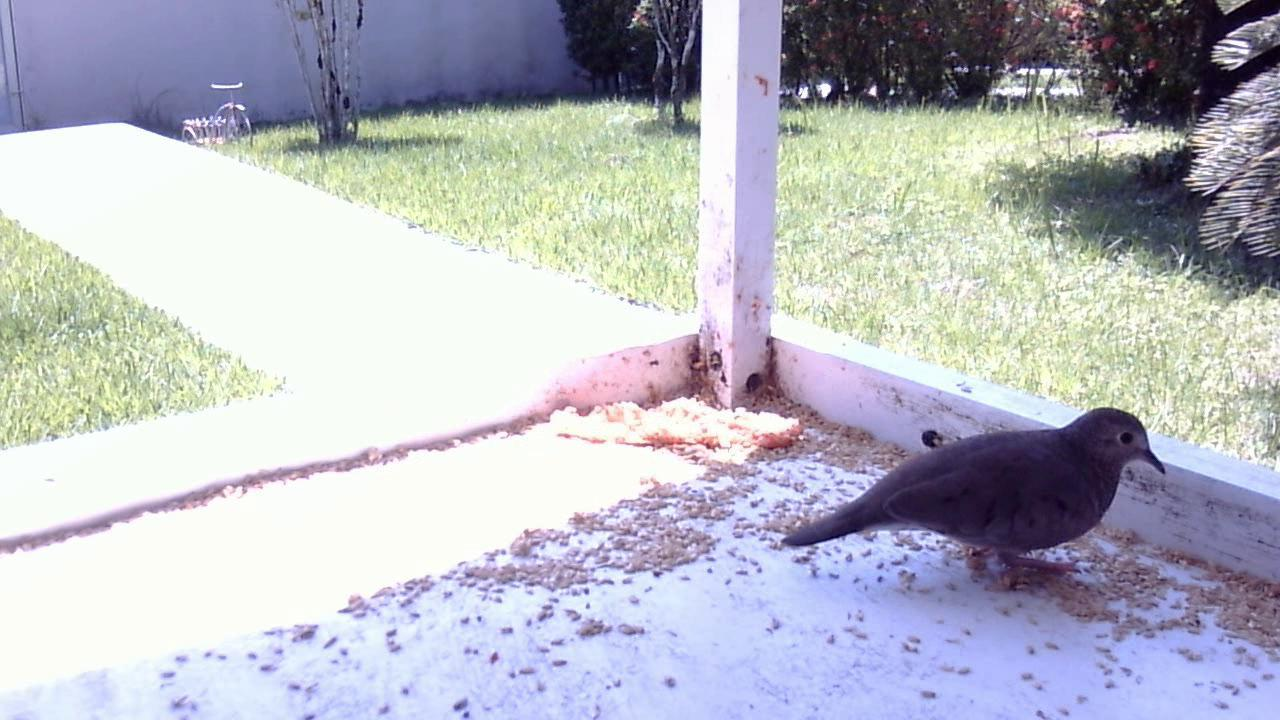rolinha: (783, 389, 1171, 603)
